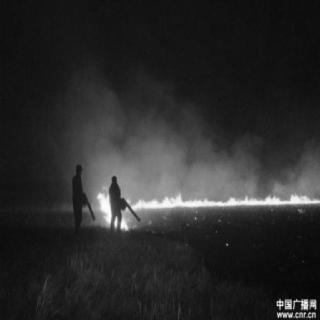Fire: (124, 183, 320, 214), (114, 213, 117, 226)
other: (74, 163, 86, 175)
